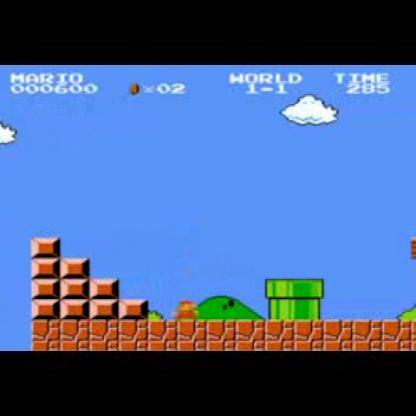Hoyo: (0, 322, 38, 350)
